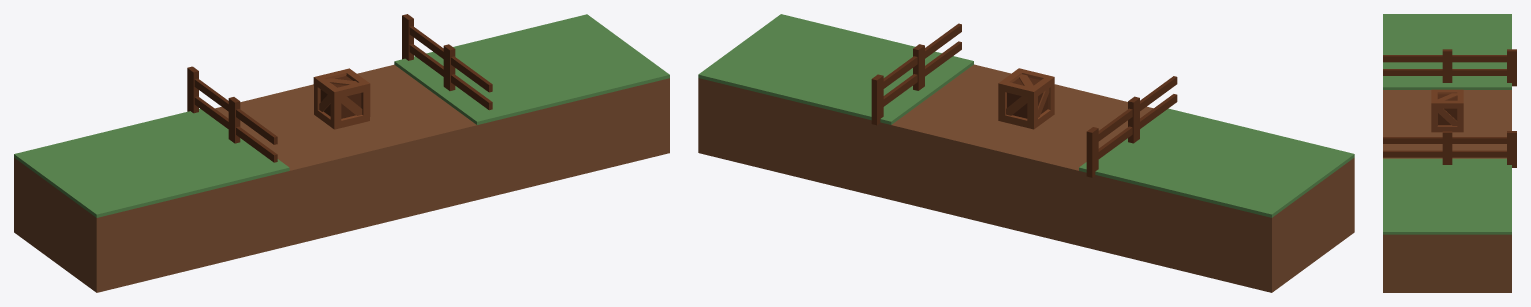
The model's file is chunk-03.obj.
3 renders of one model, left to right at view 1: azimuth 30°, elevation 25°; view 2: azimuth 150°, elevation 25°; view 3: azimuth 270°, elevation 25°, orthographic. The views are drawn at different scales.
Visible parts, largest first — view 1: Ground.001, road.003, crate.obj, Rails.009, Rails.013; view 2: Ground.001, road.003, crate.obj, Rails.013, Rails.009; view 3: road.003, Ground.001, Rails.013, Rails.009, crate.obj.
Part boxes in pixels (x1,y1,x2,y2): Ground.001: (14, 64, 669, 292); road.003: (14, 14, 669, 217); crate.obj: (313, 68, 370, 129); Rails.009: (402, 14, 492, 110); Rails.013: (187, 66, 277, 162); Ground.001: (698, 64, 1354, 292); road.003: (698, 14, 1354, 217); crate.obj: (998, 68, 1054, 129); Rails.013: (1086, 76, 1177, 177); Rails.009: (871, 23, 961, 125); road.003: (1383, 14, 1511, 234); Ground.001: (1383, 90, 1511, 292); Rails.013: (1383, 49, 1516, 86); Rails.009: (1383, 131, 1516, 167); crate.obj: (1431, 89, 1463, 132).
Bounding box in the file's own units: 16 × 3.18 × 4.15.
